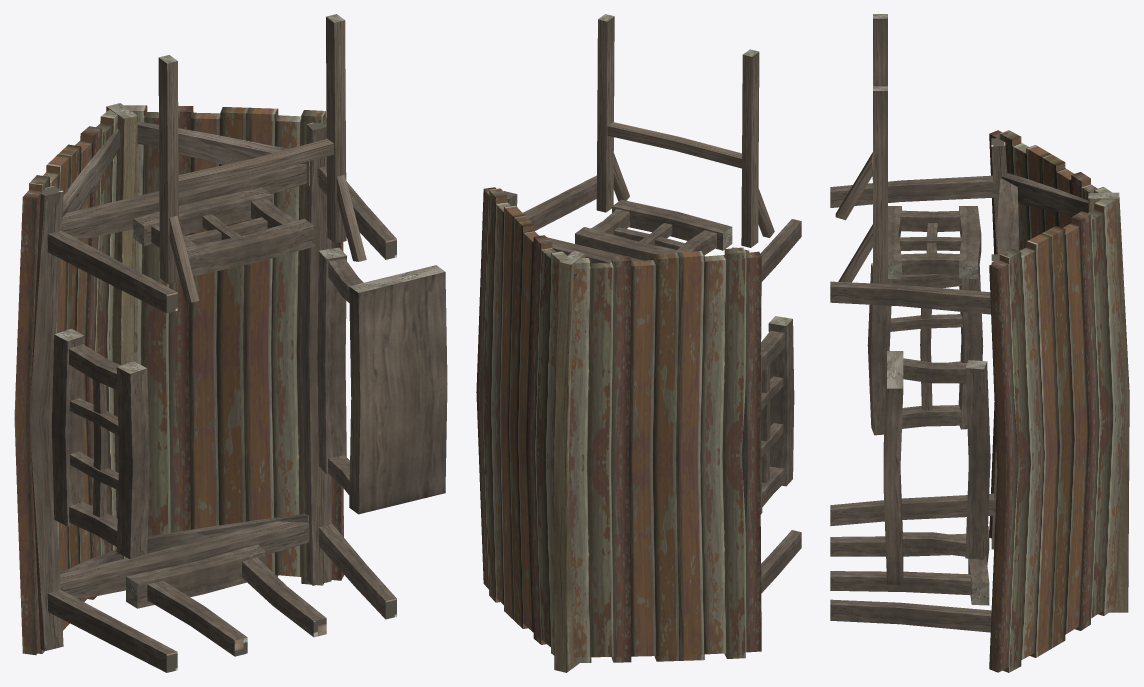
Rendered from Caravan_A_Structure.fbx.
3 renders of one model, left to right at view 1: azimuth 30°, elevation 25°; view 2: azimuth 150°, elevation 25°; view 3: azimuth 270°, elevation 25°, orthographic. The views are drawn at different scales.
Visible parts, largest first — view 1: Caravan_A_Structure; view 2: Caravan_A_Structure; view 3: Caravan_A_Structure.
Boxes of the visible parts, x1=… form: Caravan_A_Structure: x1=14, y1=14, x2=447, y2=672; Caravan_A_Structure: x1=476, y1=14, x2=801, y2=672; Caravan_A_Structure: x1=830, y1=14, x2=1129, y2=672.
Bounding box in the file's own units: 4.89 × 8.13 × 3.95.
